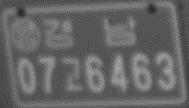0: (16, 56, 38, 96)
3: (153, 52, 177, 91)
4: (108, 52, 129, 92)
6: (130, 51, 154, 91), (83, 54, 107, 93)
7: (36, 55, 58, 95)
경남_D: (41, 15, 138, 49)
고: (60, 56, 83, 93)
영: (9, 17, 42, 55)
